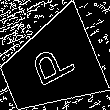P_SW: (23, 40, 77, 95)
